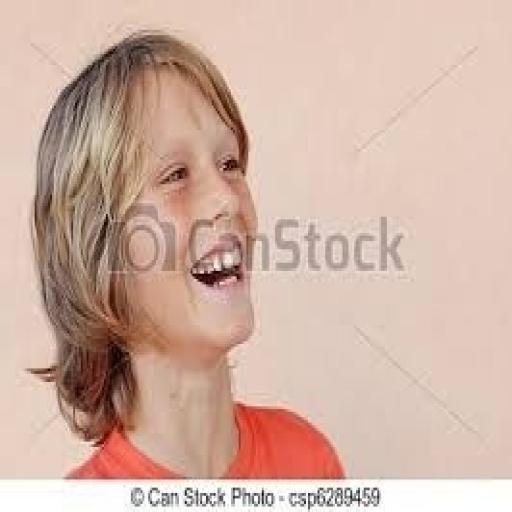laughing: (23, 24, 348, 474)
